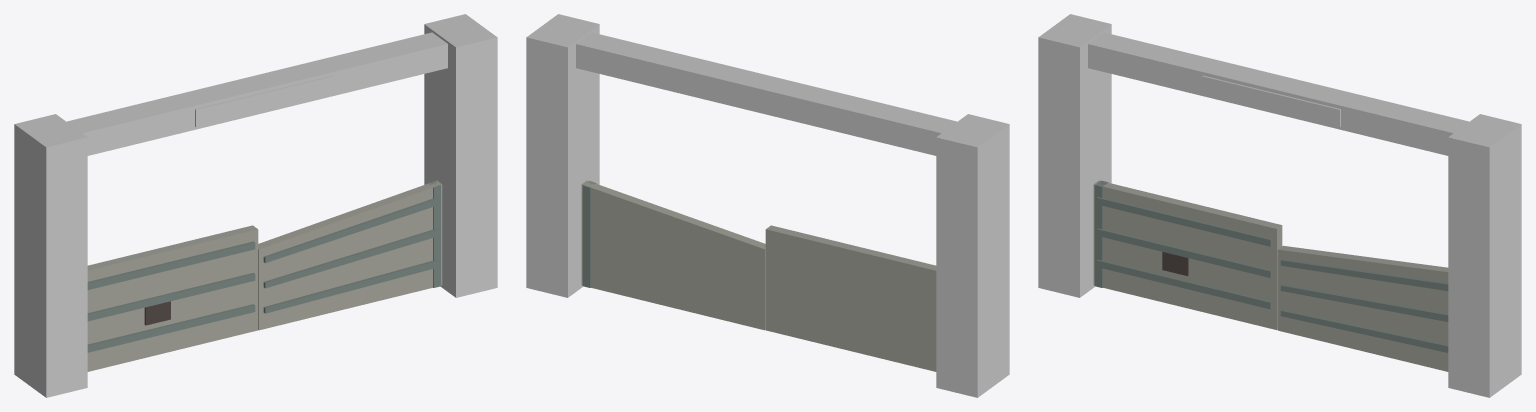
The model's file is SM_PuertaVehiculos_v4_Blindada_e1_Danado_LOD0.fbx.
The picture shows the model from 3 angles, left to right: view 1: azimuth 30°, elevation 25°; view 2: azimuth 150°, elevation 25°; view 3: azimuth 330°, elevation 25°; orthographic projection.
Visible parts, largest first — view 1: SM_bloques.puerta_estados_v17_LOD0, Hoja_O, Hoja_E; view 2: SM_bloques.puerta_estados_v17_LOD0, Hoja_O, Hoja_E; view 3: SM_bloques.puerta_estados_v17_LOD0, Hoja_O, Hoja_E.
Part boxes in pixels (<box>): SM_bloques.puerta_estados_v17_LOD0: <box>14,14,497,397</box>; Hoja_O: <box>87,225,258,371</box>; Hoja_E: <box>258,180,442,330</box>; SM_bloques.puerta_estados_v17_LOD0: <box>526,14,1009,397</box>; Hoja_O: <box>765,225,936,371</box>; Hoja_E: <box>581,180,765,330</box>; SM_bloques.puerta_estados_v17_LOD0: <box>1038,14,1521,397</box>; Hoja_O: <box>1093,180,1282,329</box>; Hoja_E: <box>1277,245,1448,371</box>.
Size of the model in its own units: 9.8 by 5.2 by 1.2.
